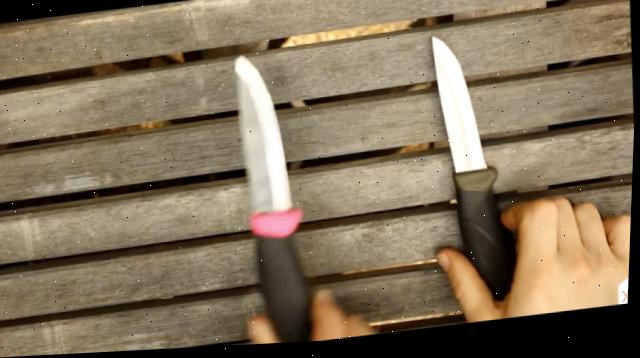pocket-knife: (410, 8, 573, 283), (217, 32, 358, 349)
